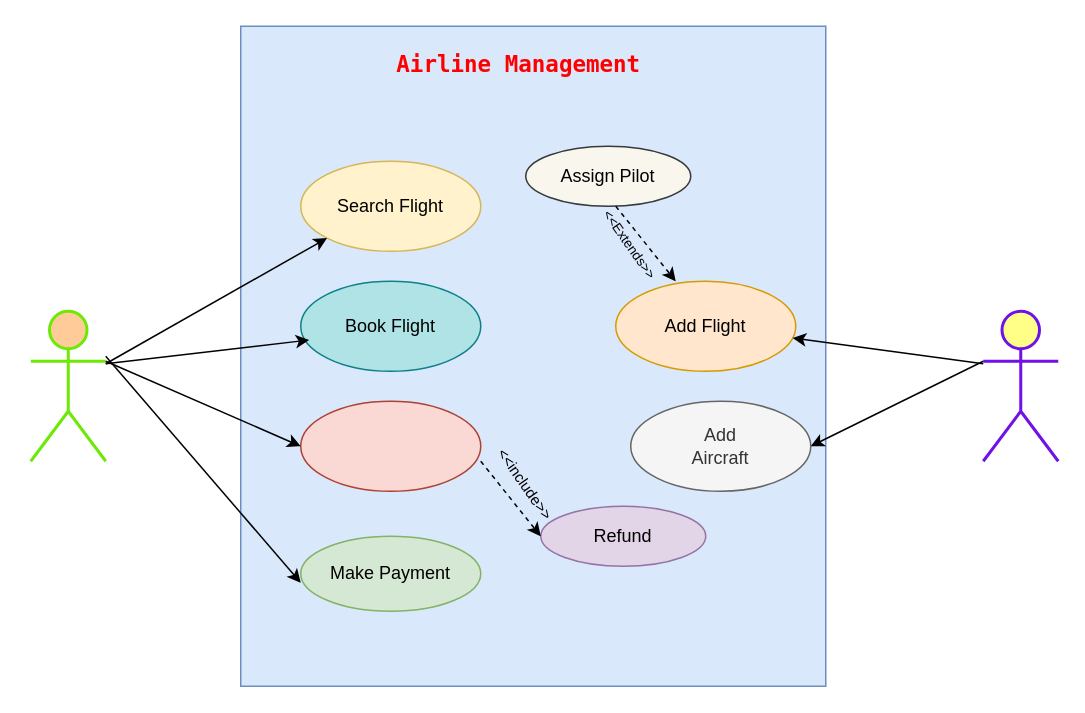
Image size: 1085x713. Some labels were removed from this diagram. The shapes that lost their labels are listed below. From the top down, each one's box as (x1, y1, x2, y2) in pixels, then its label:
(28, 309, 106, 462): Customer
(981, 309, 1059, 462): Staff
(299, 400, 481, 491): Cancel Flight
